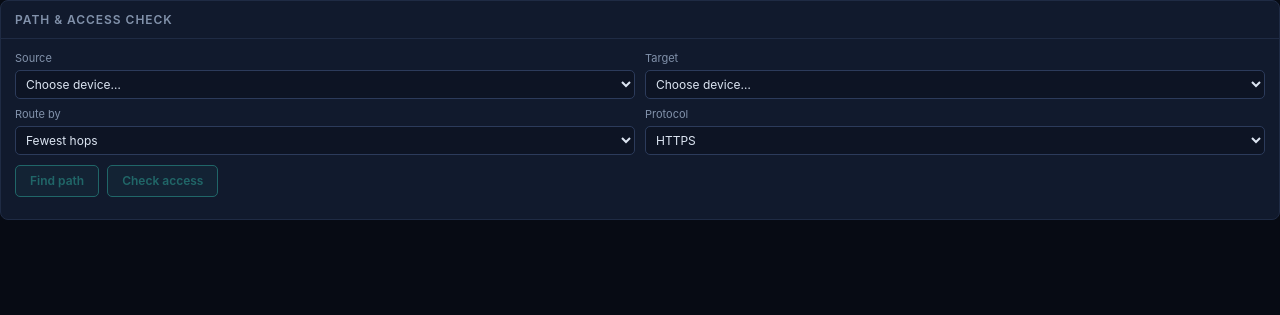
Test: PathAccessPanel › explains a denied access check step by step
Step 1. Select "Public Portal" in the dropdown labelled "Source" → (325, 85), box top-left (15, 70), bottom-right (635, 99)
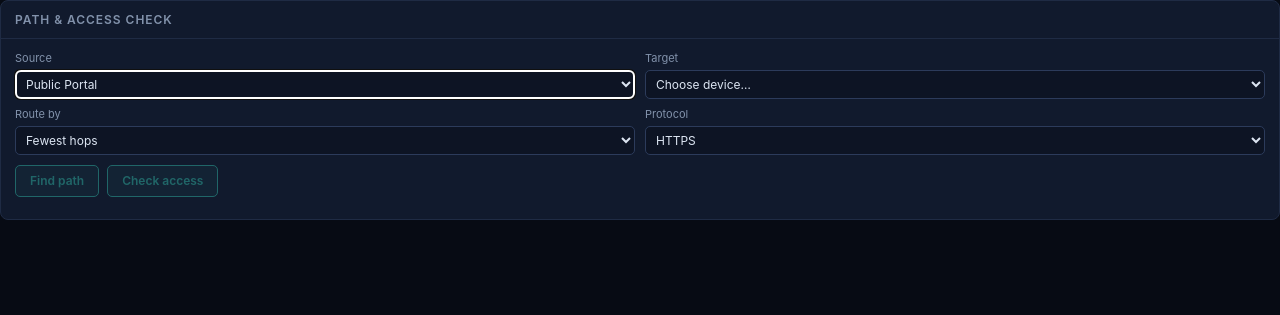
Step 2. Select "Records Database" in the dropdown labelled "Target" → (955, 85), box top-left (645, 70), bottom-right (1265, 99)
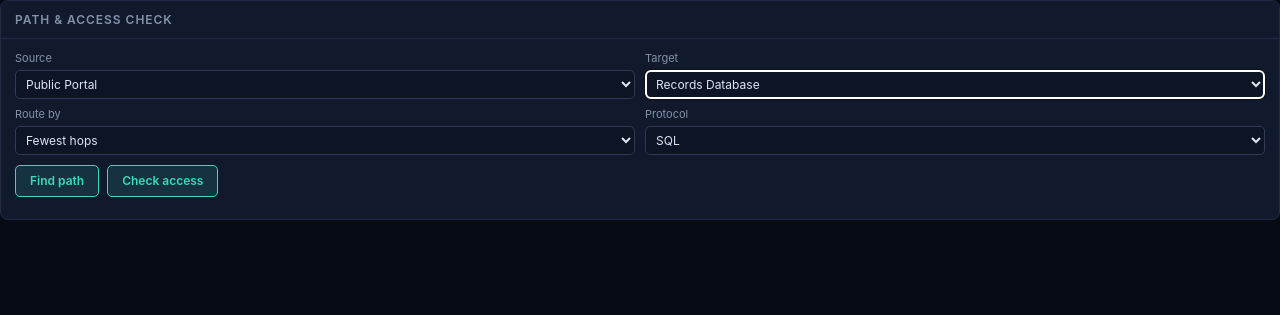
Step 3. Click the button "Check access" → (163, 181), box top-left (107, 165), bottom-right (218, 197)
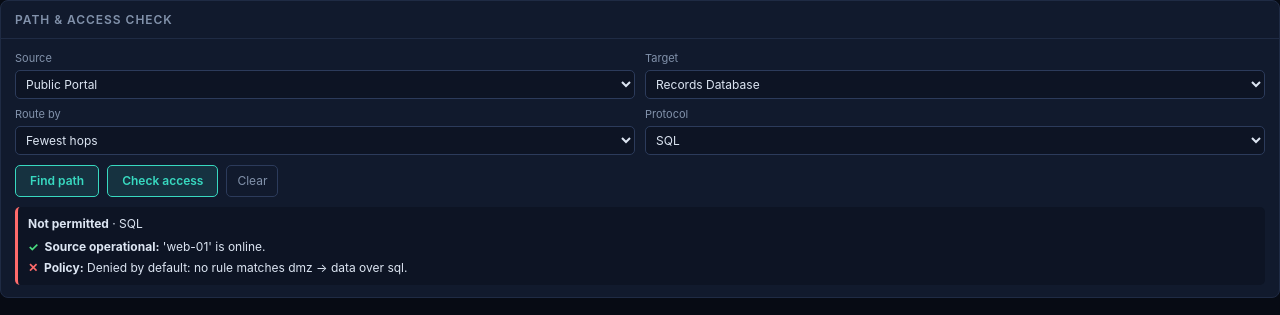
expect the text "Not permitted" is shown: met, box top-left (28, 216), bottom-right (109, 231)
expect the text "no rule matches dmz → data over sql" is shown: met, box top-left (87, 260), bottom-right (408, 275)
expect the text named "Failed" is shown: met, box top-left (28, 259), bottom-right (38, 277)
